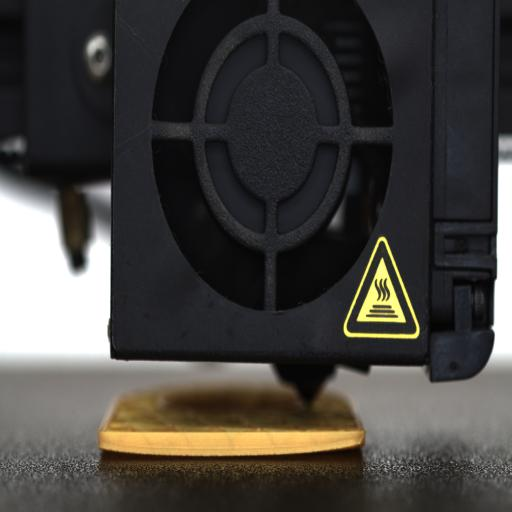warp: (96, 428, 194, 454), (282, 427, 364, 453)
